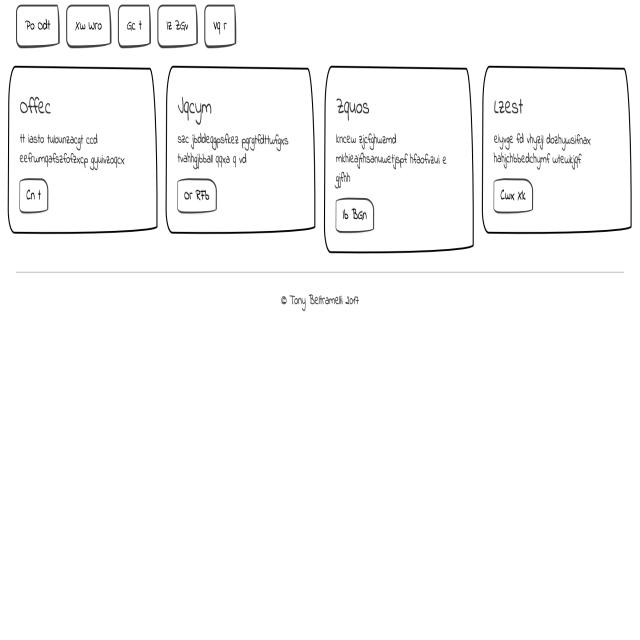Button: (173, 176, 219, 214), (335, 195, 376, 236), (492, 178, 534, 214), (17, 174, 50, 216)
Card: (324, 59, 476, 256), (6, 58, 161, 236), (166, 58, 318, 235), (483, 60, 632, 234)
Footer: (0, 270, 640, 640)
Heading 6: (173, 86, 222, 126), (12, 90, 56, 124), (333, 93, 373, 120), (491, 96, 529, 116)
Navigation Bar: (14, 0, 236, 48)
Paragraph: (336, 126, 448, 184), (176, 128, 291, 167), (17, 130, 126, 171), (493, 132, 592, 172)
